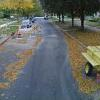Tree: (42, 0, 100, 36)
